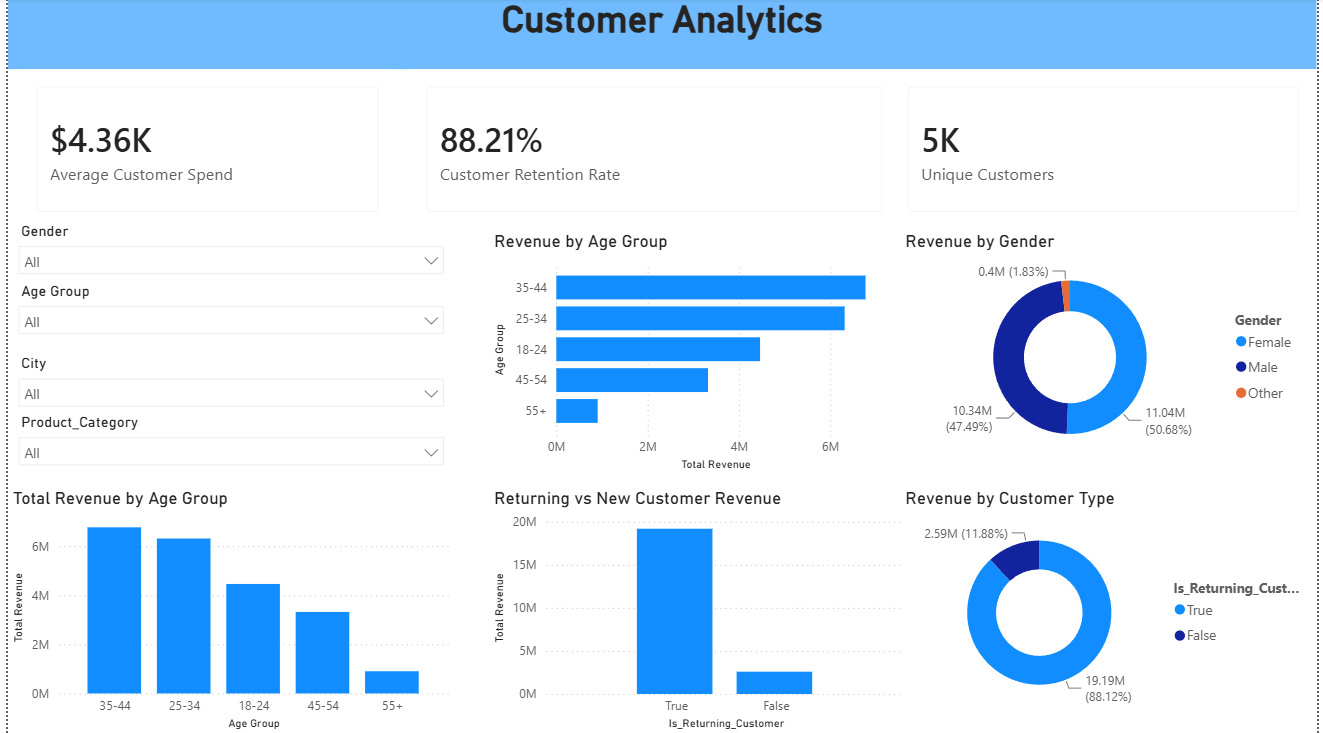

This screenshot's page, from the dashboard's own definition file:
{"tool":"powerbi","page":{"name":"Page 2","canvas":[1280,720],"ordinal":1},"visuals":[{"type":"textbox","title":"Customer Analytics","box":[0,0,1280.3,69.7],"z":0},{"type":"cardVisual","fields":{"Data":["Ecom.Average Customer Spend"]},"box":[11,70,369.1,157.8],"z":1000},{"type":"cardVisual","fields":{"Data":["Ecom.Customer Retention Rate"]},"box":[392.5,70,480.3,157.8],"z":2000},{"type":"cardVisual","fields":{"Data":["Ecom.Unique Customers"]},"box":[863.1,70,417.2,157.8],"z":3000},{"type":"clusteredBarChart","title":"Revenue by Age Group","fields":{"Category":["Ecom.Age Group"],"Y":["Ecom.Total Revenue"]},"box":[470.7,227.8,392.5,240.1],"z":4000},{"type":"donutChart","title":"Revenue by Gender","fields":{"Category":["Ecom.Gender"],"Y":["Ecom.Total Revenue"]},"box":[872.7,227.8,397.9,229.2],"z":5000},{"type":"clusteredColumnChart","title":"Returning vs New Customer Revenue","fields":{"Category":["Ecom.Is_Returning_Customer"],"Y":["Ecom.Total Revenue"]},"box":[470.7,478.9,413,241.5],"z":6000},{"type":"donutChart","title":"Revenue by Customer Type","fields":{"Category":["Ecom.Is_Returning_Customer"],"Y":["Ecom.Total Revenue"]},"box":[872.7,478.9,397.9,225],"z":7000},{"type":"slicer","fields":{"Values":["Ecom.Gender"]},"box":[0,214.1,436.4,59],"z":8000},{"type":"slicer","fields":{"Values":["Ecom.Age Group"]},"box":[0,273.1,436.4,60.4],"z":9000},{"type":"slicer","fields":{"Values":["Ecom.City"]},"box":[0,343.1,436.4,64.5],"z":10000},{"type":"slicer","fields":{"Values":["Ecom.Product_Category"]},"box":[0,400.7,436.4,67.2],"z":11000},{"type":"clusteredColumnChart","fields":{"Category":["Ecom.Age Group"],"Y":["Ecom.Total Revenue"]},"box":[0,479,436,241],"z":12000}]}

Visuals, with their boxes in screenshot pixels (x1, y1, x2, y2), scaled from the page's 1280x720 canvas onto the 1323x733 screenshot:
"Customer Analytics" textbox: box=[0, 0, 1322, 71]
cardVisual - Ecom.Average Customer Spend: box=[11, 71, 393, 232]
cardVisual - Ecom.Customer Retention Rate: box=[406, 71, 902, 232]
cardVisual - Ecom.Unique Customers: box=[892, 71, 1322, 232]
"Revenue by Age Group" clusteredBarChart: box=[487, 232, 892, 476]
"Revenue by Gender" donutChart: box=[902, 232, 1313, 465]
"Returning vs New Customer Revenue" clusteredColumnChart: box=[487, 488, 913, 732]
"Revenue by Customer Type" donutChart: box=[902, 488, 1313, 717]
slicer - Ecom.Gender: box=[0, 218, 451, 278]
slicer - Ecom.Age Group: box=[0, 278, 451, 340]
slicer - Ecom.City: box=[0, 349, 451, 415]
slicer - Ecom.Product_Category: box=[0, 408, 451, 476]
clusteredColumnChart - Ecom.Age Group x Ecom.Total Revenue: box=[0, 488, 451, 732]
